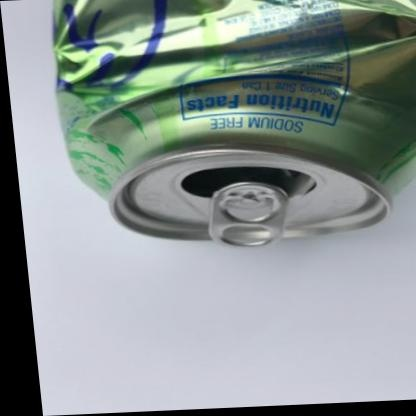trash: (54, 0, 415, 244), (55, 0, 415, 243)
